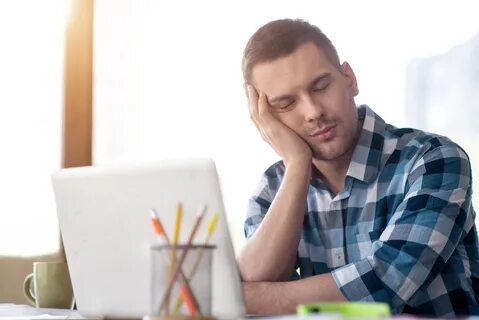sleep: (237, 17, 479, 306)
